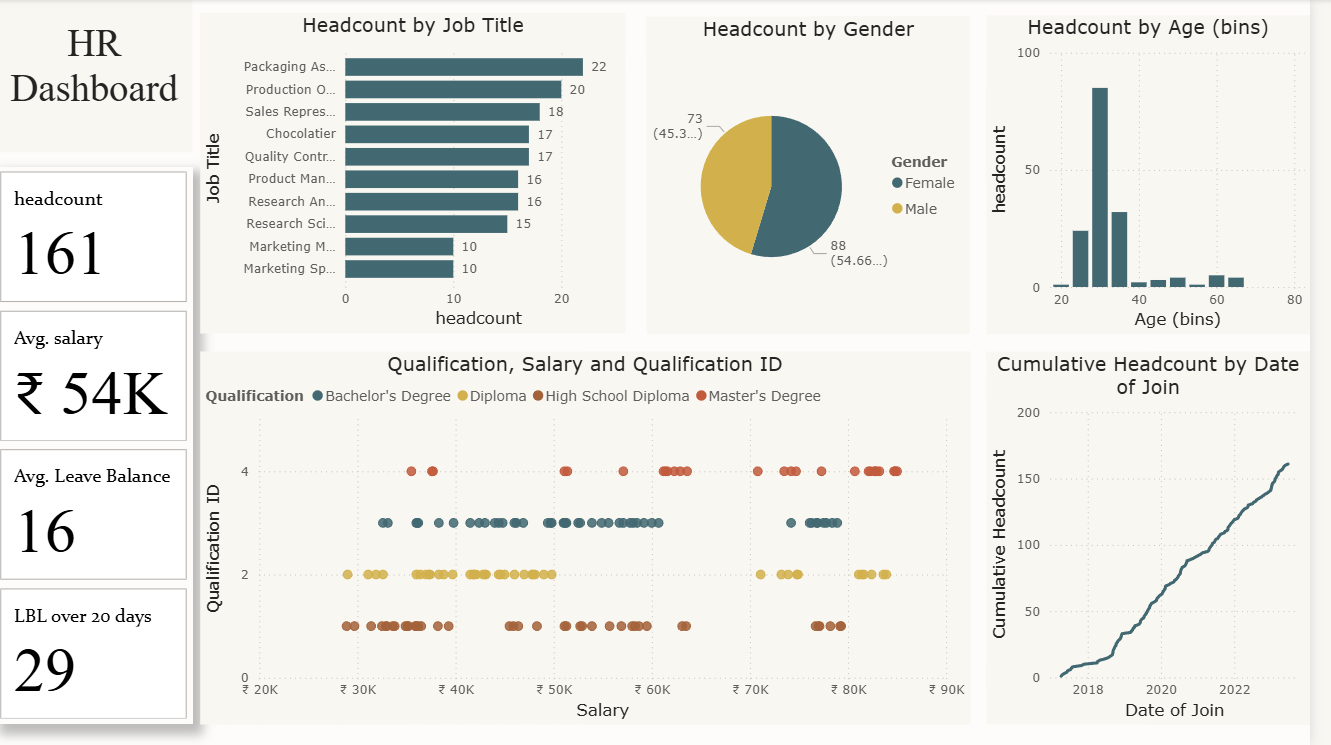

What the dashboard file says about the page in this screenshot:
{"tool":"powerbi","page":{"name":"Page 7","canvas":[1280,720],"ordinal":0},"visuals":[{"type":"cardVisual","fields":{"Data":["data.headcount","data.Avg. salary","data.Avg. Leave Balance","data.LBL over 20 days"]},"box":[10.9,161.7,190.6,538.1],"z":0},{"type":"textbox","box":[10.8,0,190.8,147.7],"z":1000},{"type":"barChart","title":"Headcount by Job Title","fields":{"Category":["data.Job Title"],"Y":["data.headcount"]},"box":[209.2,13.8,410.8,309.2],"z":2000},{"type":"pieChart","title":"Headcount by Gender","fields":{"Category":["data.Gender"],"Y":["data.headcount"]},"box":[640,16.9,312.3,306.2],"z":3000},{"type":"columnChart","title":"Headcount by Age (bins)","fields":{"Y":["data.headcount"],"Category":["data.Age (bins)"]},"box":[967.7,15.4,312.3,307.7],"z":4000},{"type":"scatterChart","fields":{"X":["data.Salary"],"Y":["Qual.Qualification ID"],"Series":["Qual.Qualification"]},"box":[209.2,340,743.1,360],"z":5000},{"type":"lineChart","fields":{"Y":["data.Cumulative Headcount"],"Category":["data.Date of Join"]},"box":[967.7,340,312.3,360],"z":6000}]}

Visuals, with their boxes in screenshot pixels (x1, y1, x2, y2), scaled from the page's 1280x720 canvas onto the 1331x745 screenshot:
cardVisual - data.headcount x data.Avg. salary: BBox(11, 167, 210, 724)
textbox: BBox(11, 0, 210, 153)
"Headcount by Job Title" barChart: BBox(218, 14, 645, 334)
"Headcount by Gender" pieChart: BBox(666, 17, 990, 334)
"Headcount by Age (bins)" columnChart: BBox(1006, 16, 1330, 334)
scatterChart - data.Salary x Qual.Qualification ID: BBox(218, 352, 990, 724)
lineChart - data.Cumulative Headcount x data.Date of Join: BBox(1006, 352, 1330, 724)
